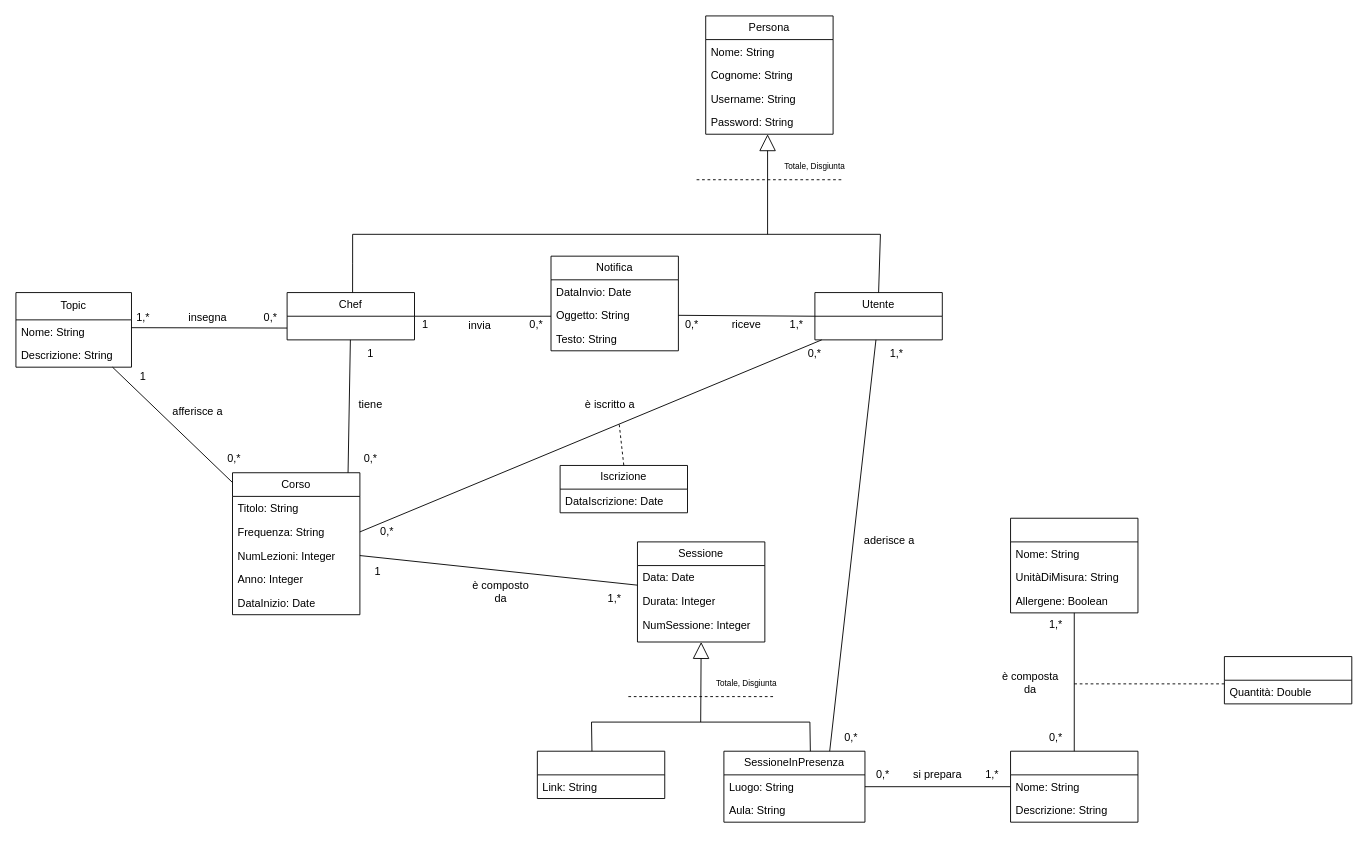
Some shapes in this 1368 by 841 pixel diagram are drawn without their labels. Each missing label, with the box of its shape:
Composizione: (1223, 656, 1352, 704)
Ingrediente: (1010, 517, 1138, 613)
Ricetta: (1010, 750, 1138, 822)
SessioneOnline: (536, 750, 665, 799)
